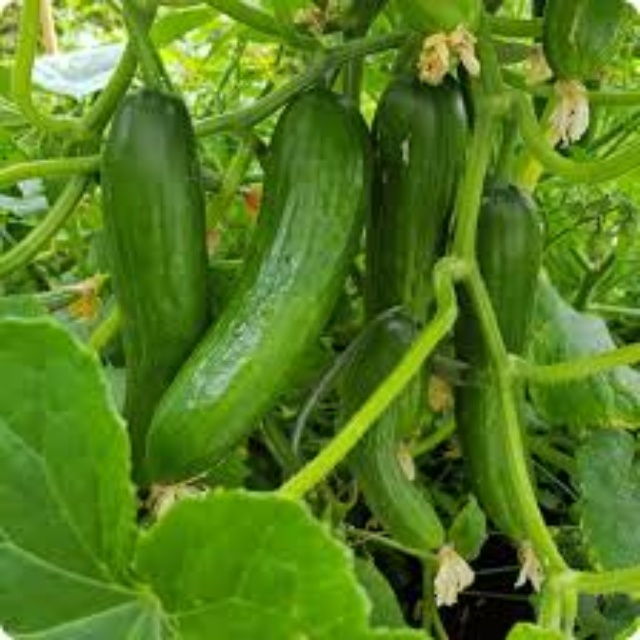dua_leo: (133, 90, 366, 481)
